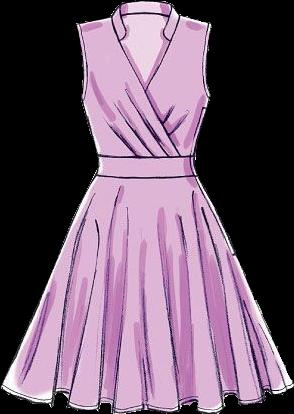Bodice: (76, 1, 211, 178)
Hemline: (1, 381, 293, 413)
Neckline: (117, 0, 175, 92), (98, 152, 194, 159)
Skirt: (1, 172, 293, 413)
Waistline: (95, 170, 195, 181)
